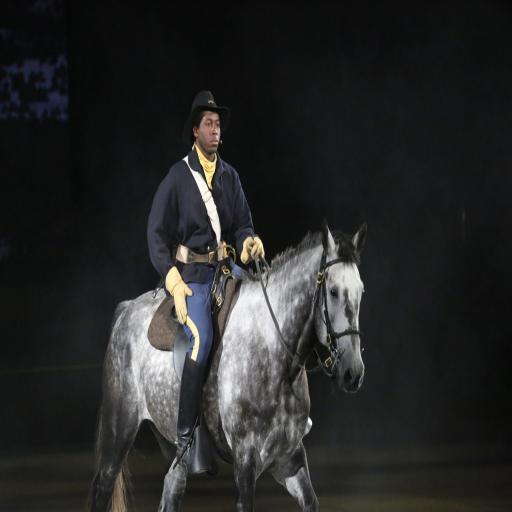Horse: (83, 216, 369, 512)
